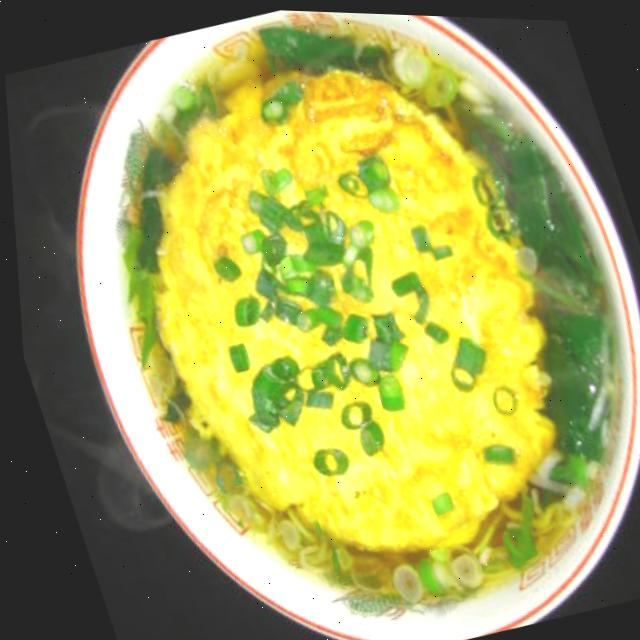面条主食: (59, 2, 640, 640)
